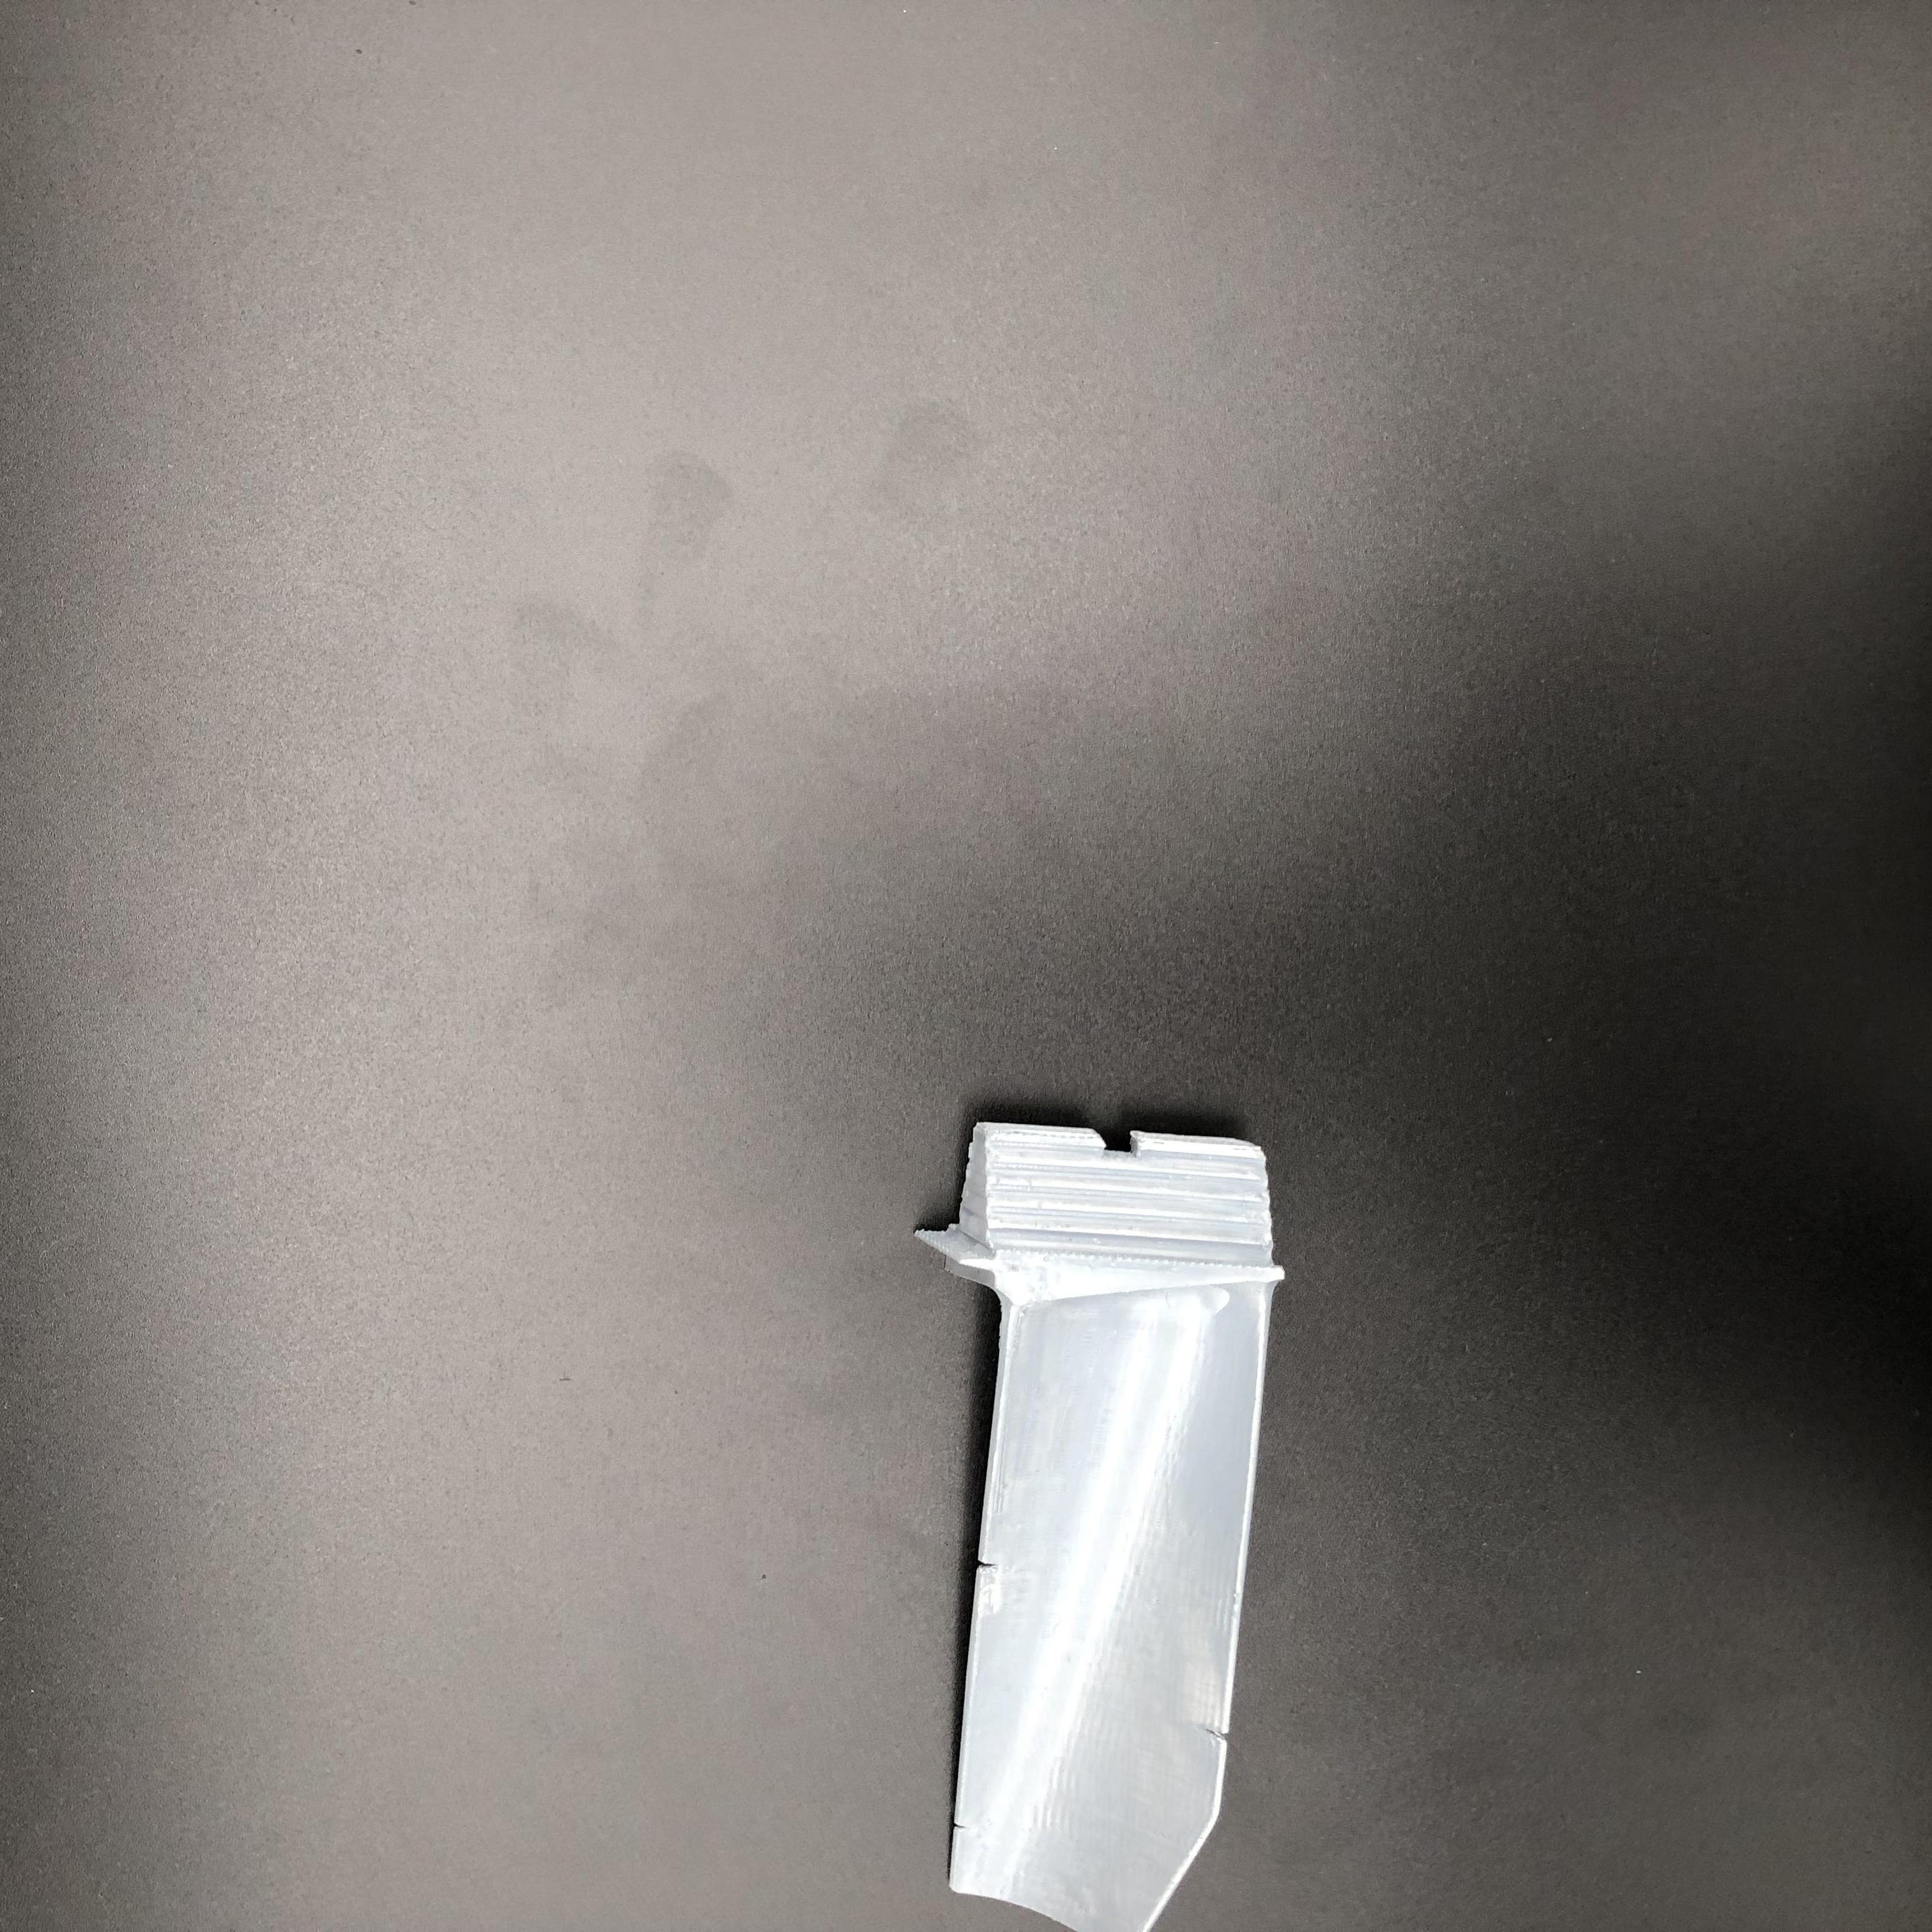groove: (973, 1548, 1007, 1585), (1198, 1718, 1233, 1748), (952, 1808, 973, 1844)
